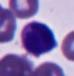L: (20, 20, 56, 56)
